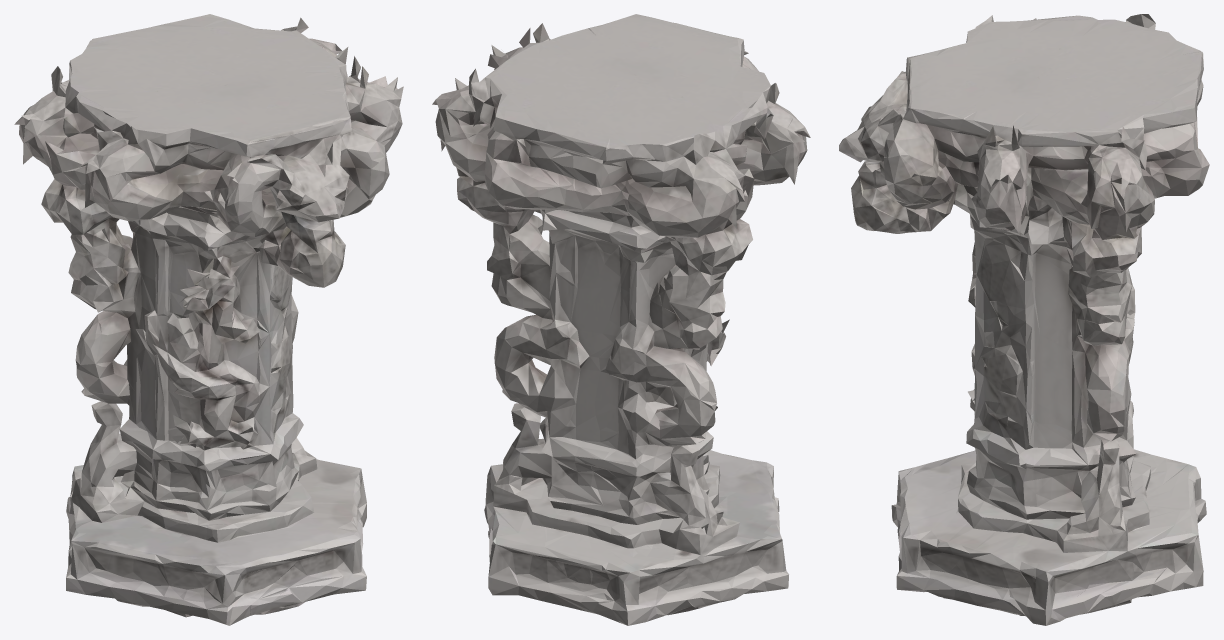
File: bj89_huabiao.glb
3 views of the same model, side by side, from view 1: azimuth 30°, elevation 25°; view 2: azimuth 150°, elevation 25°; view 3: azimuth 270°, elevation 25° (orthographic).
Parts seen in each view (by area): view 1: bj89_huabiao_tex; view 2: bj89_huabiao_tex; view 3: bj89_huabiao_tex.
Boxes of the visible parts, box(x1,y1,x2,y2) form: bj89_huabiao_tex: box(14, 14, 403, 625); bj89_huabiao_tex: box(432, 14, 810, 625); bj89_huabiao_tex: box(839, 14, 1209, 625).
Size of the model in its own units: 5.81 by 8.5 by 5.74.
Materials: 1 (1 with a texture image).
